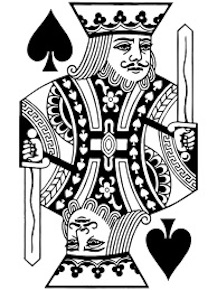KingOfSpades: (14, 1, 214, 289)
